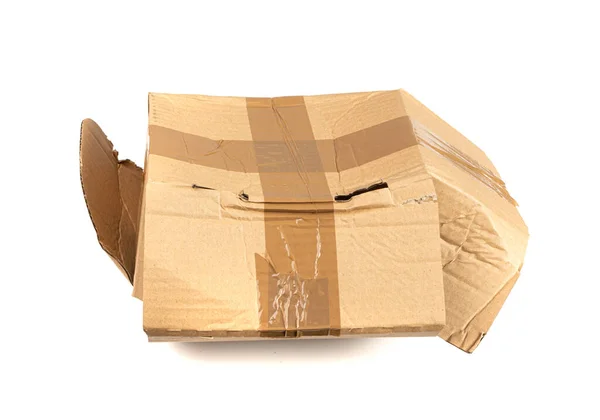damaged package: (435, 185, 537, 356), (66, 119, 149, 288), (231, 187, 393, 216)
